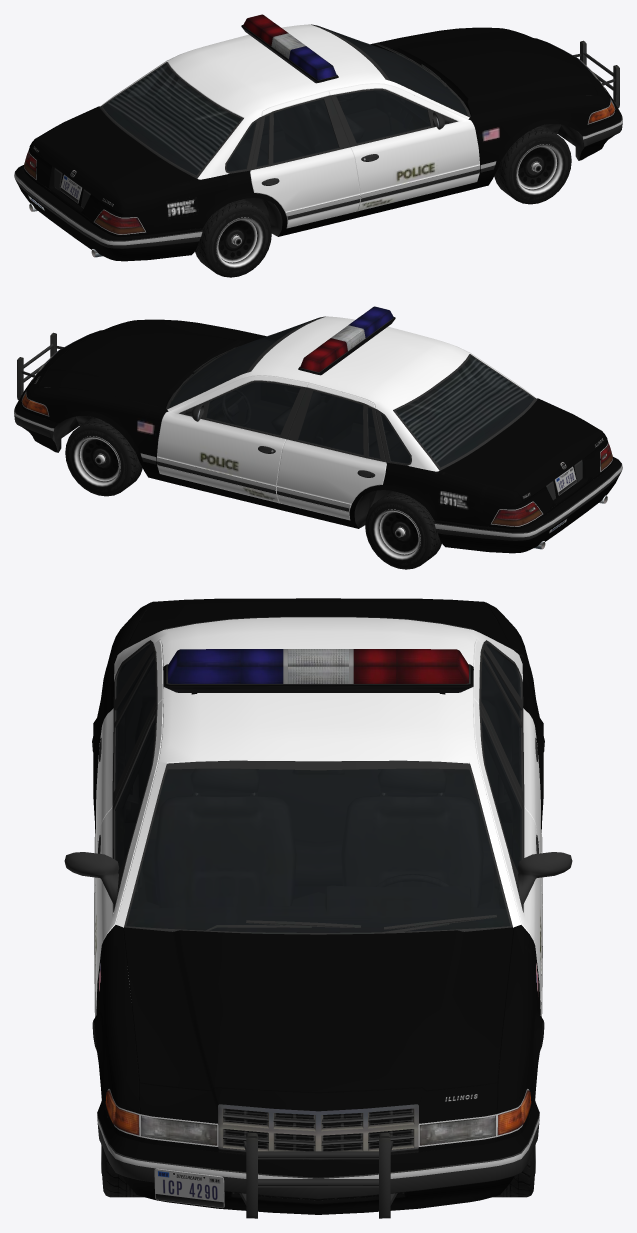
Rendered from illinois-90-police-cruiser-low-poly.glb.
The picture shows the model from 3 angles, top to bottom: view 1: azimuth 30°, elevation 25°; view 2: azimuth 150°, elevation 25°; view 3: azimuth 270°, elevation 25°; orthographic projection. The views are drawn at different scales.
Parts seen in each view (by area): view 1: Illinois90_Body_Illinois90_Bodymat_0, Illinois90_Headlights_Glass_UCB_Lights_and_Glass_Transperent, Illinois90_Interior_UCB_Interiors_2_0, Illinois90_SUSPENSION_UCB_BOTTOM_0, Illinois90_WheelStock_FL_RB1c_Tire_1k_0, Illinois90_Lightbar_UCB_Lights_and_Glass_0, Illinois90Cop_Trunkdoor_Numberplates_Numberplates_Misk_U_0; view 2: Illinois90_Body_Illinois90_Bodymat_0, Illinois90_Headlights_Glass_UCB_Lights_and_Glass_Transperent, Illinois90_Interior_UCB_Interiors_2_0, Illinois90_SUSPENSION_UCB_BOTTOM_0, Illinois90_WheelStock_FL_RB1c_Tire_1k_0, Illinois90_Lightbar_UCB_Lights_and_Glass_0, Illinois90Cop_Trunkdoor_Numberplates_Numberplates_Misk_U_0; view 3: Illinois90_Body_Illinois90_Bodymat_0, Illinois90_Headlights_Glass_UCB_Lights_and_Glass_Transperent, Illinois90_Interior_UCB_Interiors_2_0, Illinois90_SUSPENSION_UCB_BOTTOM_0, Illinois90_Lightbar_UCB_Lights_and_Glass_0, Illinois90Cop_Trunkdoor_Numberplates_Numberplates_Misk_U_0, Illinois90_WheelStock_FL_RB1c_Tire_1k_0.
Part boxes in pixels (bbox=[...]): Illinois90_Body_Illinois90_Bodymat_0: bbox=[15, 24, 621, 261]; Illinois90_Headlights_Glass_UCB_Lights_and_Glass_Transperent: bbox=[24, 25, 614, 234]; Illinois90_Interior_UCB_Interiors_2_0: bbox=[103, 29, 467, 209]; Illinois90_SUSPENSION_UCB_BOTTOM_0: bbox=[14, 24, 622, 257]; Illinois90_WheelStock_FL_RB1c_Tire_1k_0: bbox=[195, 125, 571, 277]; Illinois90_Lightbar_UCB_Lights_and_Glass_0: bbox=[24, 14, 614, 233]; Illinois90Cop_Trunkdoor_Numberplates_Numberplates_Misk_U_0: bbox=[60, 174, 81, 203]; Illinois90_Body_Illinois90_Bodymat_0: bbox=[15, 316, 621, 553]; Illinois90_Headlights_Glass_UCB_Lights_and_Glass_Transperent: bbox=[22, 317, 612, 526]; Illinois90_Interior_UCB_Interiors_2_0: bbox=[169, 321, 533, 510]; Illinois90_SUSPENSION_UCB_BOTTOM_0: bbox=[14, 316, 622, 549]; Illinois90_WheelStock_FL_RB1c_Tire_1k_0: bbox=[65, 417, 441, 569]; Illinois90_Lightbar_UCB_Lights_and_Glass_0: bbox=[22, 306, 612, 525]; Illinois90Cop_Trunkdoor_Numberplates_Numberplates_Misk_U_0: bbox=[555, 466, 576, 495]; Illinois90_Body_Illinois90_Bodymat_0: bbox=[92, 598, 544, 1214]; Illinois90_Headlights_Glass_UCB_Lights_and_Glass_Transperent: bbox=[105, 644, 531, 1145]; Illinois90_Interior_UCB_Interiors_2_0: bbox=[117, 648, 519, 932]; Illinois90_SUSPENSION_UCB_BOTTOM_0: bbox=[64, 616, 572, 1218]; Illinois90_Lightbar_UCB_Lights_and_Glass_0: bbox=[107, 649, 529, 1144]; Illinois90Cop_Trunkdoor_Numberplates_Numberplates_Misk_U_0: bbox=[154, 1168, 224, 1208]; Illinois90_WheelStock_FL_RB1c_Tire_1k_0: bbox=[101, 1091, 535, 1197].
Size of the model in its own units: 5.21 by 1.56 by 2.09.
8 materials, 8 textured.
